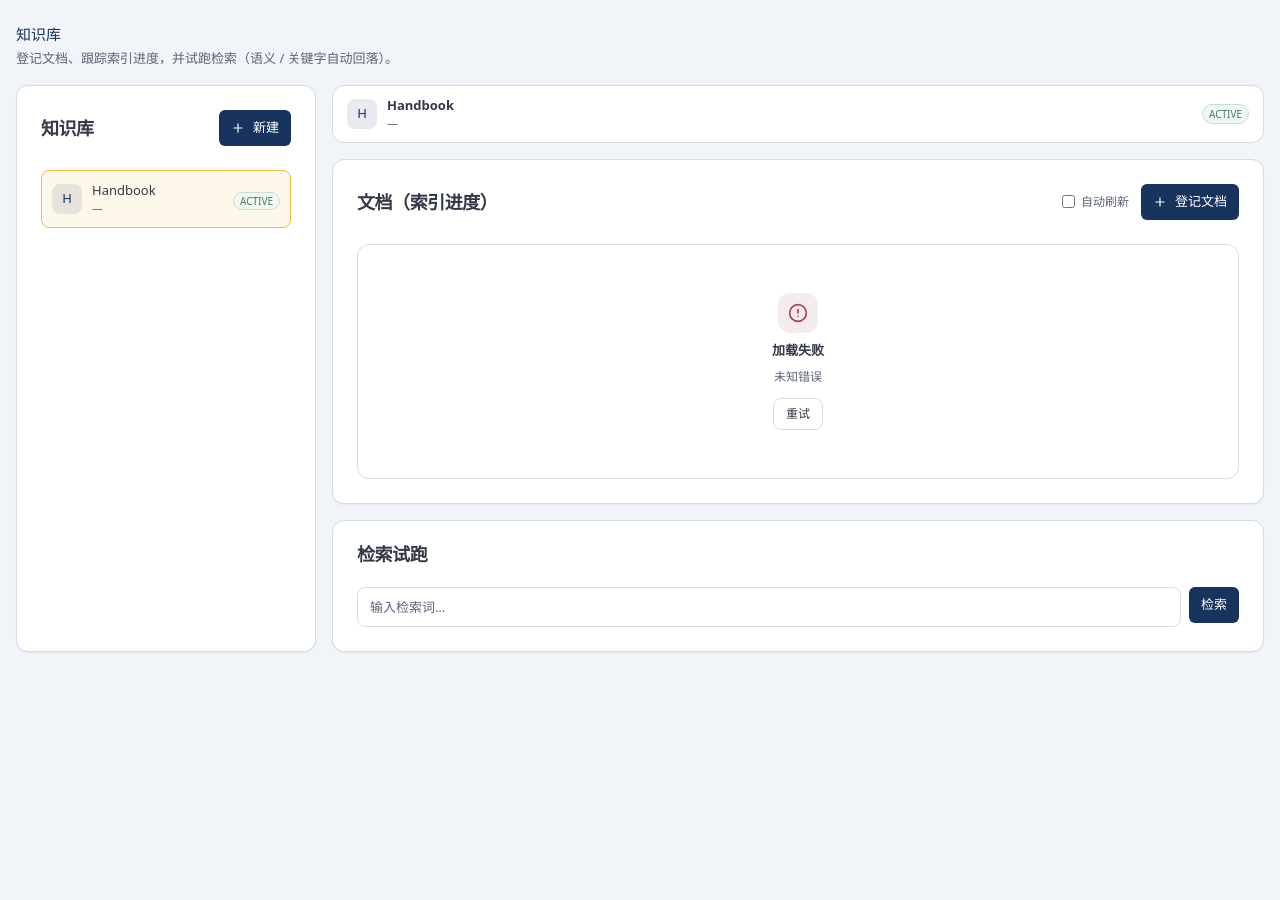
Test: KnowledgeManager › 文档加载失败 → 文档卡内错误面板 + 重试
The image size is (1280, 900).
Expected: the button with test id "kb-item-Handbook" is shown, [41,170,291,228]
Expected: the element with test id "docs-error" is shown, [357,244,1239,479]
Click the button with test id "docs-retry" at (798,414), box [773,398,823,430]
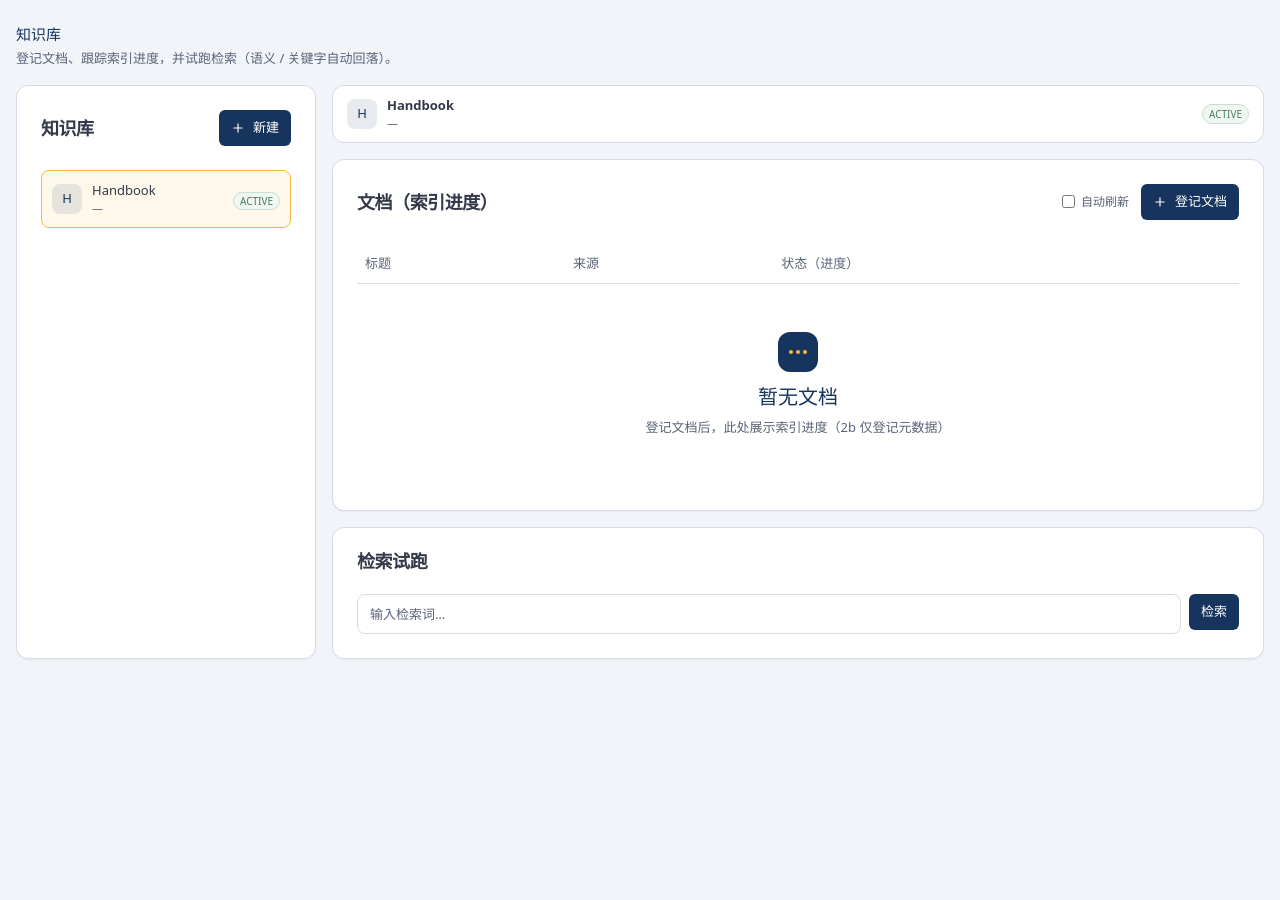
Result: the element with test id "docs-error" is gone
